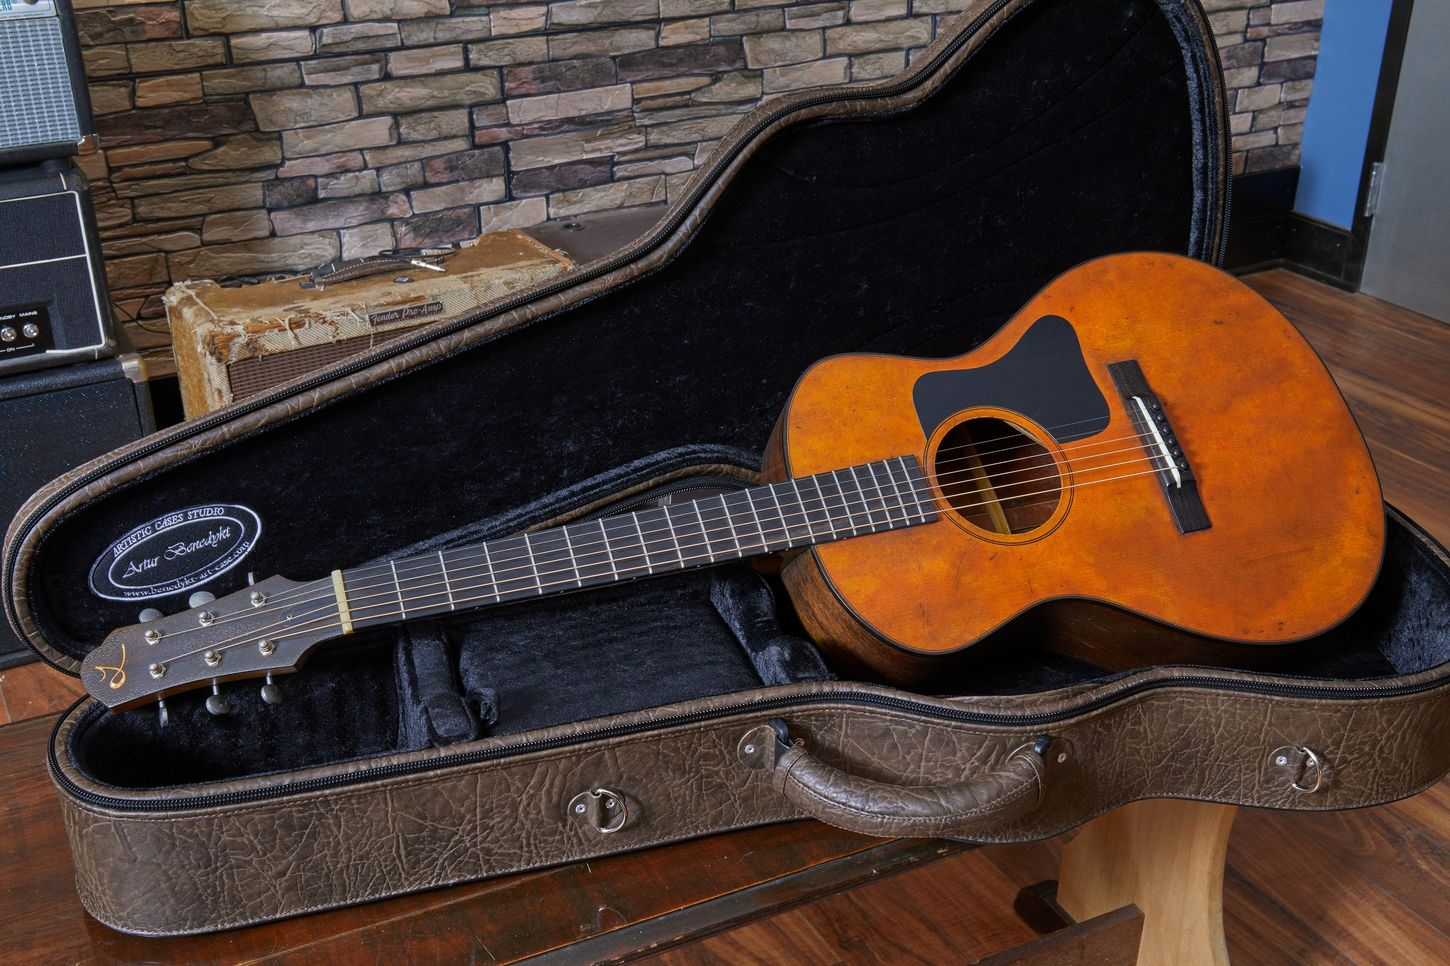guitar: (32, 245, 1401, 943), (107, 251, 1387, 735)
